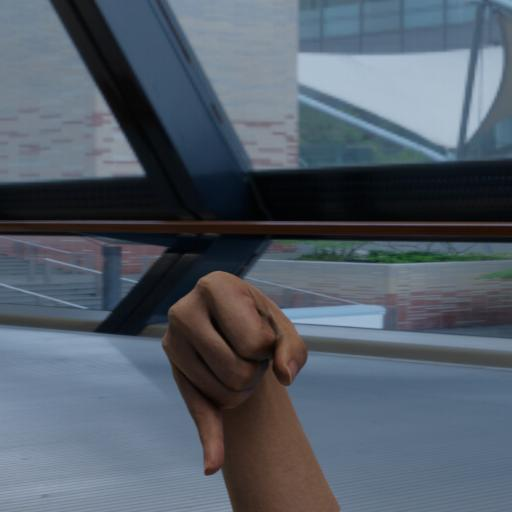J: (156, 258, 324, 468)
